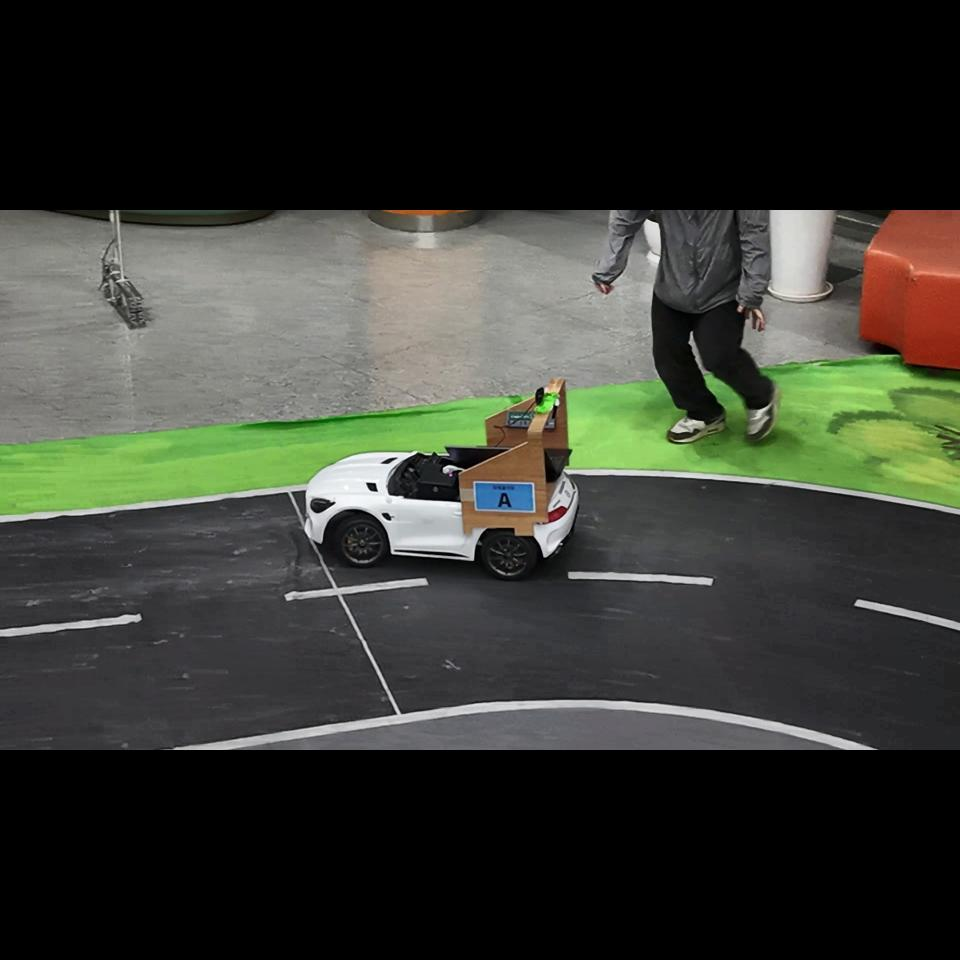broken_line: (284, 577, 429, 601), (854, 599, 960, 631), (0, 614, 142, 637), (568, 572, 714, 585)
